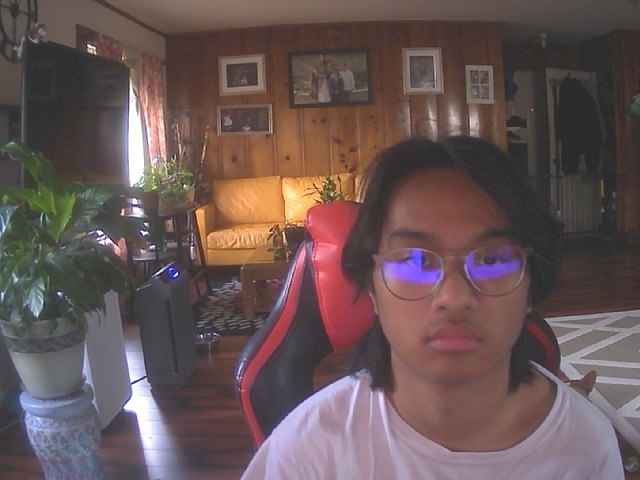neutral: (364, 141, 546, 388)
